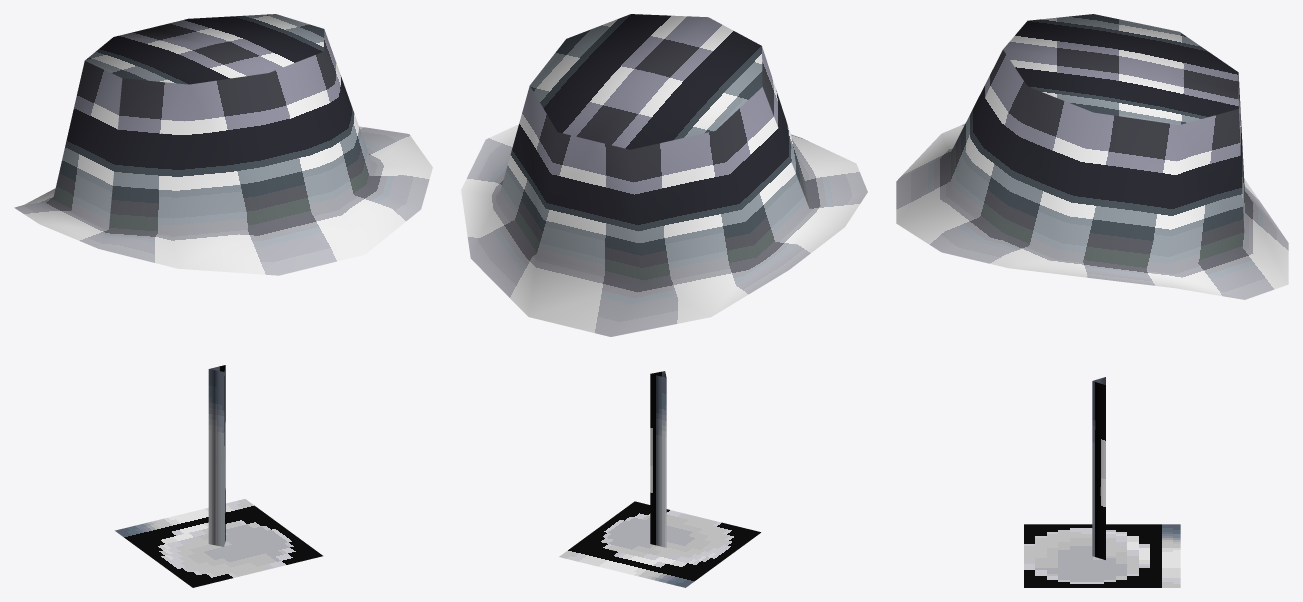
3 views of the same model, side by side, from view 1: azimuth 30°, elevation 25°; view 2: azimuth 150°, elevation 25°; view 3: azimuth 270°, elevation 25° (orthographic). The views are drawn at different scales.
Parts seen in each view (by area): view 1: 2930head080_c; view 2: 2930head080_c; view 3: 2930head080_c.
Part boxes in pixels (x1,y1,x2,y2): 2930head080_c: (14,14,432,587); 2930head080_c: (461,14,867,587); 2930head080_c: (896,14,1288,587).
Bounding box in the file's own units: 1.31 × 1.72 × 1.2.
2 materials, 2 textured.
